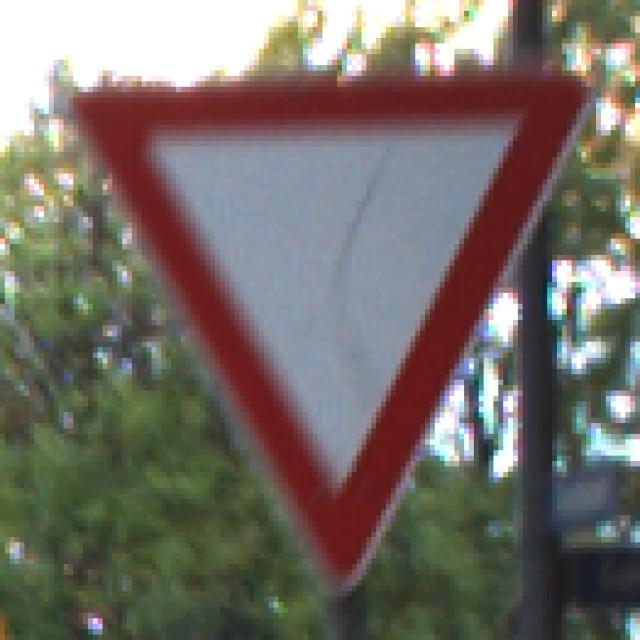Give Way: (60, 61, 582, 587)
